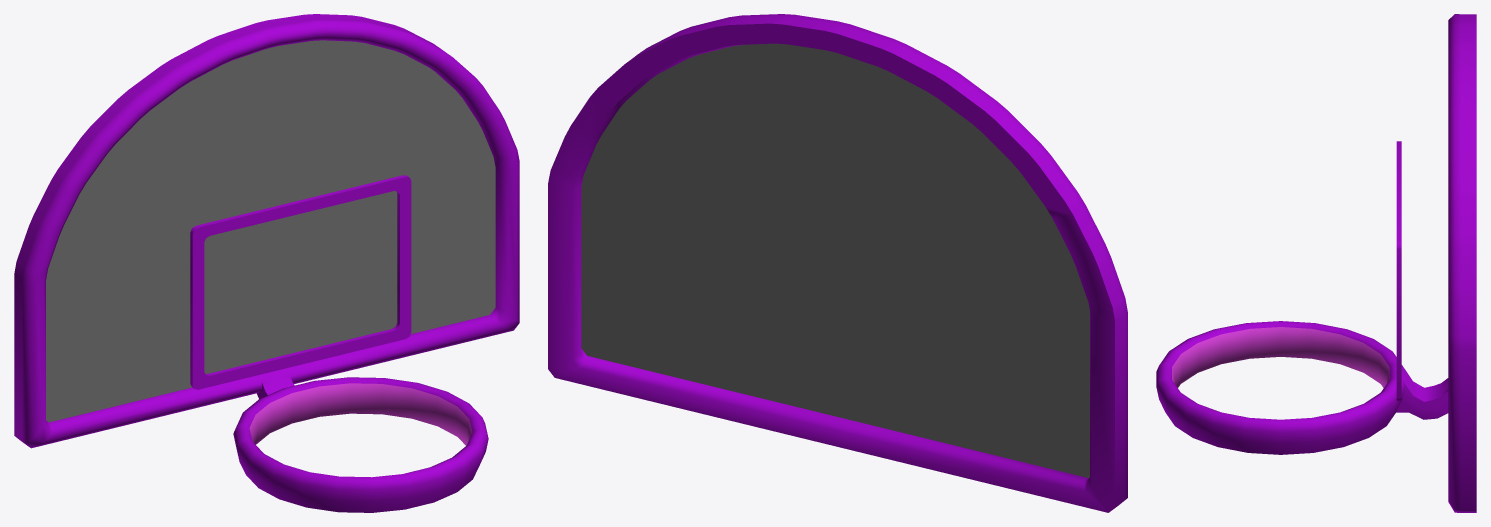
File: BasketNet.fbx
The picture shows the model from 3 angles, left to right: view 1: azimuth 30°, elevation 25°; view 2: azimuth 150°, elevation 25°; view 3: azimuth 270°, elevation 25°; orthographic projection. The views are drawn at different scales.
Visible parts, largest first — view 1: BasketNet, BasketNetTarget; view 2: BasketNet; view 3: BasketNet, BasketNetTarget.
Part boxes in pixels (<box>): BasketNet: <box>14,14,519,512</box>; BasketNetTarget: <box>190,175,411,389</box>; BasketNet: <box>548,14,1127,512</box>; BasketNet: <box>1156,14,1476,512</box>; BasketNetTarget: <box>1396,141,1401,401</box>.
Bounding box in the file's own units: 241 × 175 × 138.
